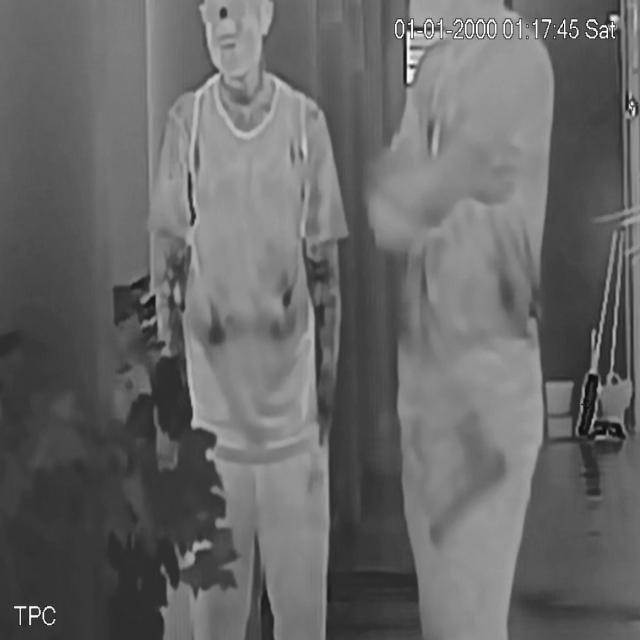Weapon: (423, 411, 522, 562)
